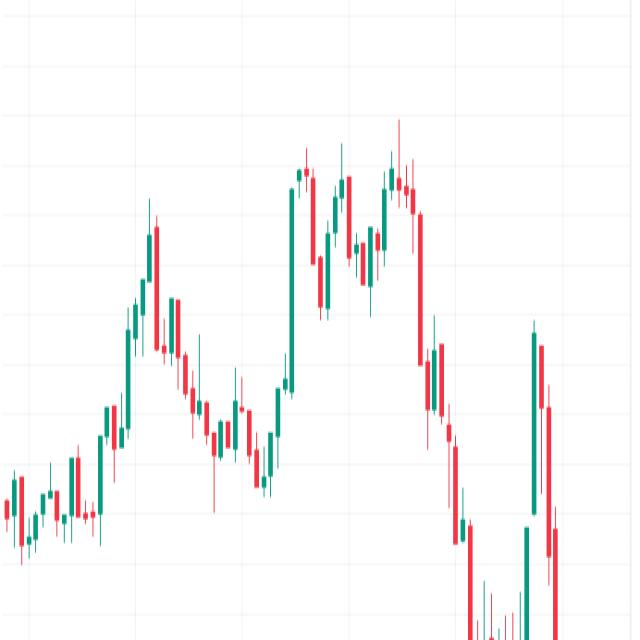Triple-Top: (282, 134, 432, 322)
